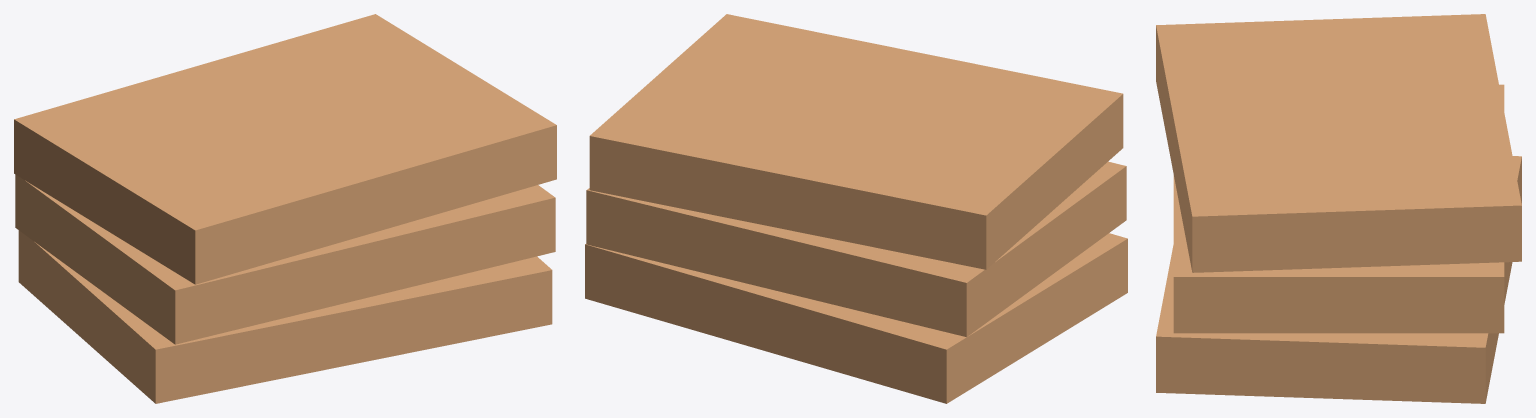
Rendered from placa_cobre.glb.
3 renders of one model, left to right at view 1: azimuth 30°, elevation 25°; view 2: azimuth 150°, elevation 25°; view 3: azimuth 270°, elevation 25°, orthographic. The views are drawn at different scales.
Visible parts, largest first — view 1: placa_cobre; view 2: placa_cobre; view 3: placa_cobre.
Part boxes in pixels (x1=…): placa_cobre: x1=14, y1=14, x2=556, y2=403; placa_cobre: x1=585, y1=14, x2=1127, y2=403; placa_cobre: x1=1156, y1=14, x2=1521, y2=403.
Size of the model in its own units: 0.2321 by 0.1 by 0.1771.
